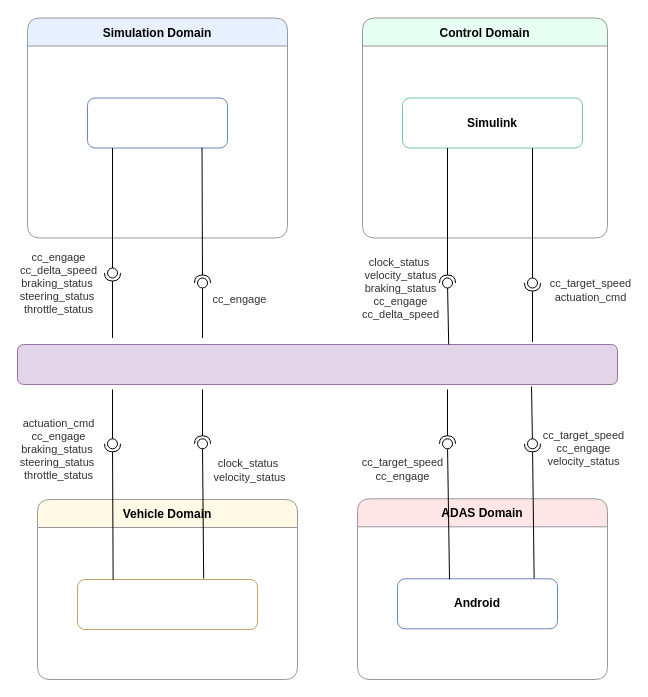
The diagram is 648 pixels wide and 697 high, and some of its shapes have lost their labels. Each missing label, with the centre of its shape:
Carla-Client: point (157, 122)
COM (Zenoh): point (317, 364)
EGOVehicle: point (167, 604)
